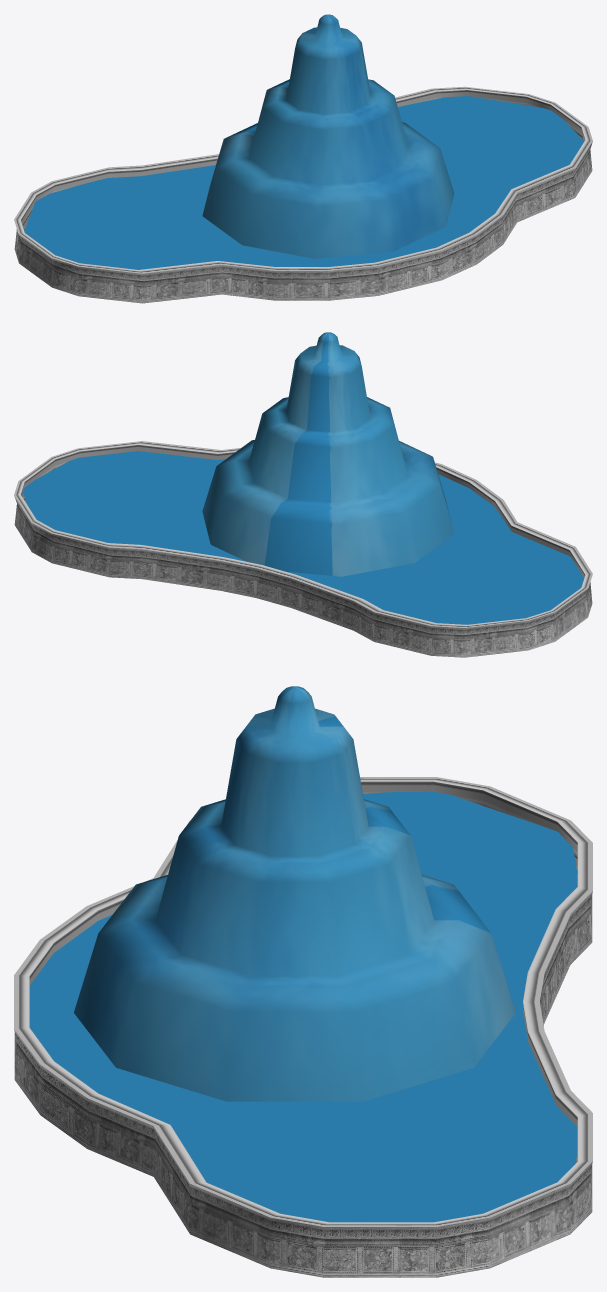
Rendered from fountain.fbx.
The picture shows the model from 3 angles, top to bottom: view 1: azimuth 30°, elevation 25°; view 2: azimuth 150°, elevation 25°; view 3: azimuth 270°, elevation 25°; orthographic projection. The views are drawn at different scales.
Visible parts, largest first — view 1: water, fountain; view 2: water, fountain; view 3: water, fountain.
Part boxes in pixels (<box>): water: <box>24,14,584,269</box>; fountain: <box>14,86,592,303</box>; water: <box>22,332,584,624</box>; fountain: <box>14,441,592,657</box>; water: <box>29,686,577,1222</box>; fountain: <box>14,777,592,1277</box>.
Bounding box in the file's own units: 13.2 × 5.02 × 7.18.
2 materials, 2 textured.
